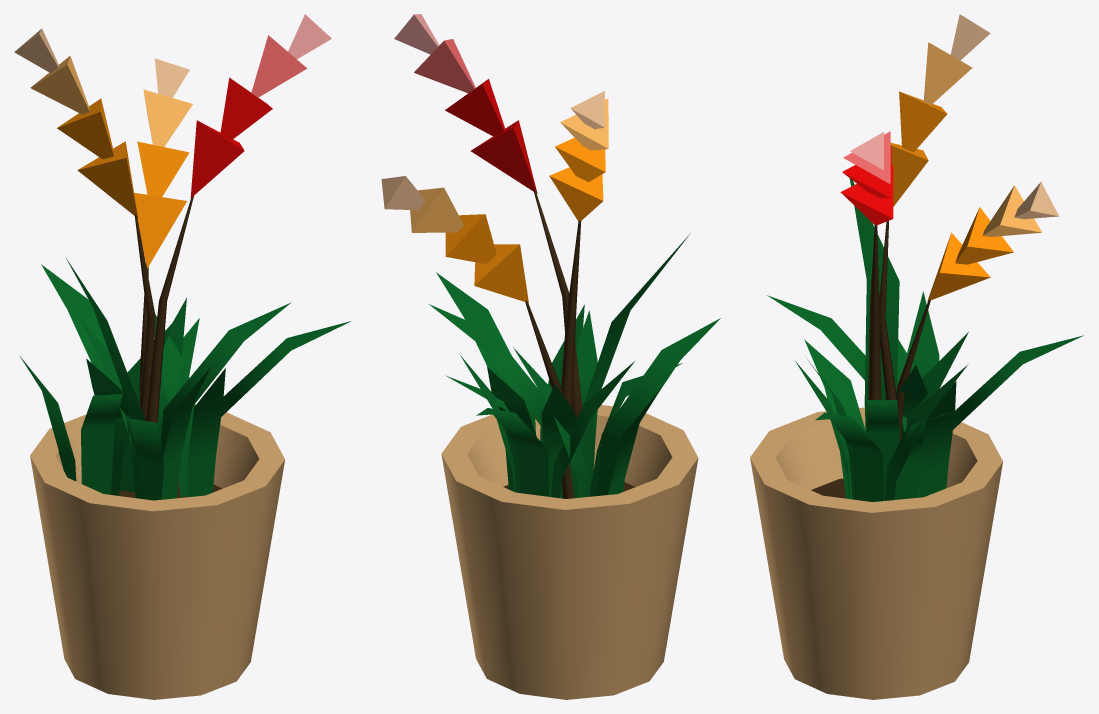
File: plant_2.fbx
3 views of the same model, side by side, from view 1: azimuth 30°, elevation 25°; view 2: azimuth 150°, elevation 25°; view 3: azimuth 270°, elevation 25° (orthographic).
Parts seen in each view (by area): view 1: plant_2; view 2: plant_2; view 3: plant_2.
Boxes of the visible parts, x1=… form: plant_2: x1=14, y1=14, x2=351, y2=699; plant_2: x1=381, y1=14, x2=720, y2=699; plant_2: x1=750, y1=14, x2=1083, y2=699.
Size of the model in its own units: 43.64 by 89.57 by 44.59.
Materials: 1 (1 with a texture image).
